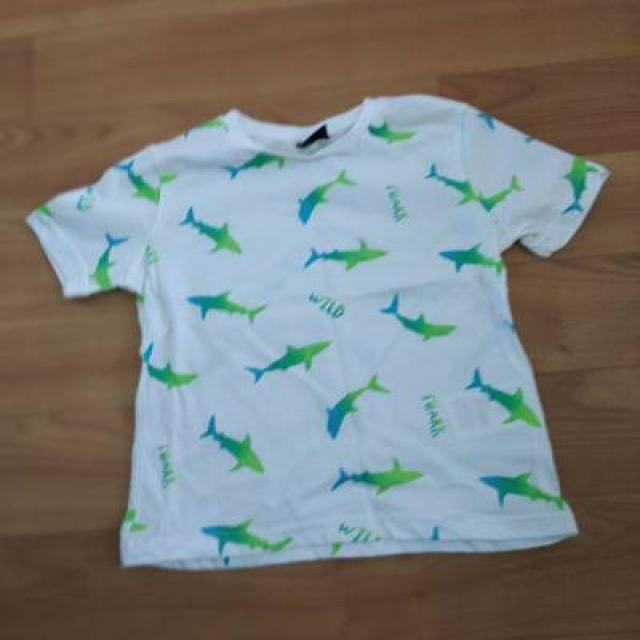Clothes -Biodegradable-: (28, 91, 609, 567)
